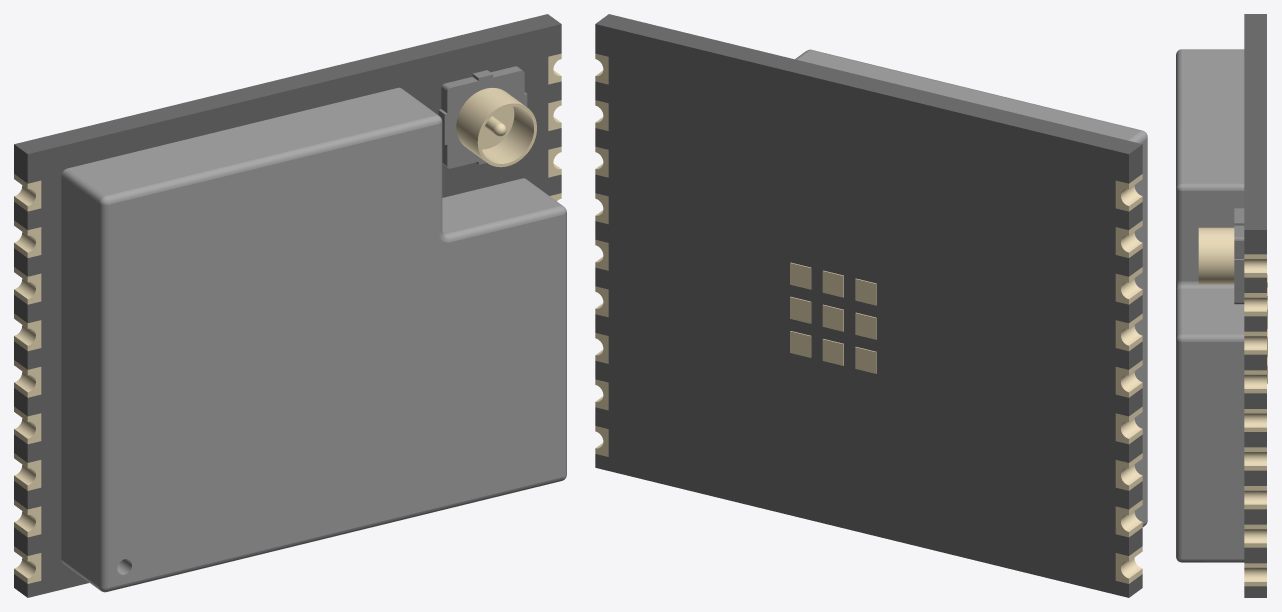
The model's file is ESP32-C3-WROOM-02U.glb.
3 views of the same model, side by side, from view 1: azimuth 30°, elevation 25°; view 2: azimuth 150°, elevation 25°; view 3: azimuth 270°, elevation 25° (orthographic). The views are drawn at different scales.
Parts seen in each view (by area): view 1: Shape_IndexedFaceSet.070, Shape_IndexedFaceSet.159, Shape_IndexedFaceSet.064, Shape_IndexedFaceSet.067, Shape_IndexedFaceSet.125, Shape_IndexedFaceSet.076, Shape_IndexedFaceSet.059, Shape_IndexedFaceSet.079, Shape_IndexedFaceSet.305, Shape_IndexedFaceSet.072, Shape_IndexedFaceSet.314, Shape_IndexedFaceSet.317 (+2 smaller); view 2: Shape_IndexedFaceSet.158, Shape_IndexedFaceSet.125, Shape_IndexedFaceSet.067, Shape_IndexedFaceSet.064; view 3: Shape_IndexedFaceSet.054, Shape_IndexedFaceSet.067, Shape_IndexedFaceSet.125, Shape_IndexedFaceSet.063, Shape_IndexedFaceSet.059, Shape_IndexedFaceSet.314, Shape_IndexedFaceSet.058, Shape_IndexedFaceSet.079, Shape_IndexedFaceSet.124, Shape_IndexedFaceSet.075, Shape_IndexedFaceSet.056, Shape_IndexedFaceSet.065 (+25 smaller).
Boxes of the visible parts, <box> form: Shape_IndexedFaceSet.070: <box>108,124,563,587</box>; Shape_IndexedFaceSet.159: <box>27,24,561,597</box>; Shape_IndexedFaceSet.064: <box>61,176,98,586</box>; Shape_IndexedFaceSet.067: <box>67,88,435,195</box>; Shape_IndexedFaceSet.125: <box>14,14,560,153</box>; Shape_IndexedFaceSet.076: <box>99,204,108,588</box>; Shape_IndexedFaceSet.059: <box>442,178,559,233</box>; Shape_IndexedFaceSet.079: <box>105,115,438,204</box>; Shape_IndexedFaceSet.305: <box>447,70,524,168</box>; Shape_IndexedFaceSet.072: <box>107,477,563,591</box>; Shape_IndexedFaceSet.314: <box>458,89,525,160</box>; Shape_IndexedFaceSet.317: <box>482,106,533,163</box>; Shape_IndexedFaceSet.158: <box>595,24,1128,597</box>; Shape_IndexedFaceSet.125: <box>596,14,1142,153</box>; Shape_IndexedFaceSet.067: <box>797,50,1140,140</box>; Shape_IndexedFaceSet.064: <box>1134,139,1146,524</box>; Shape_IndexedFaceSet.054: <box>1181,342,1244,559</box>; Shape_IndexedFaceSet.067: <box>1181,49,1244,183</box>; Shape_IndexedFaceSet.125: <box>1244,14,1266,229</box>; Shape_IndexedFaceSet.063: <box>1181,191,1244,281</box>; Shape_IndexedFaceSet.059: <box>1181,288,1244,334</box>; Shape_IndexedFaceSet.314: <box>1198,227,1231,284</box>; Shape_IndexedFaceSet.058: <box>1176,340,1181,559</box>; Shape_IndexedFaceSet.079: <box>1176,50,1181,187</box>; Shape_IndexedFaceSet.124: <box>1244,230,1266,254</box>; Shape_IndexedFaceSet.075: <box>1176,189,1181,280</box>; Shape_IndexedFaceSet.056: <box>1181,334,1244,341</box>; Shape_IndexedFaceSet.065: <box>1181,183,1244,190</box>.
Bounding box in the file's own units: 7.09 × 5.63 × 1.27.
